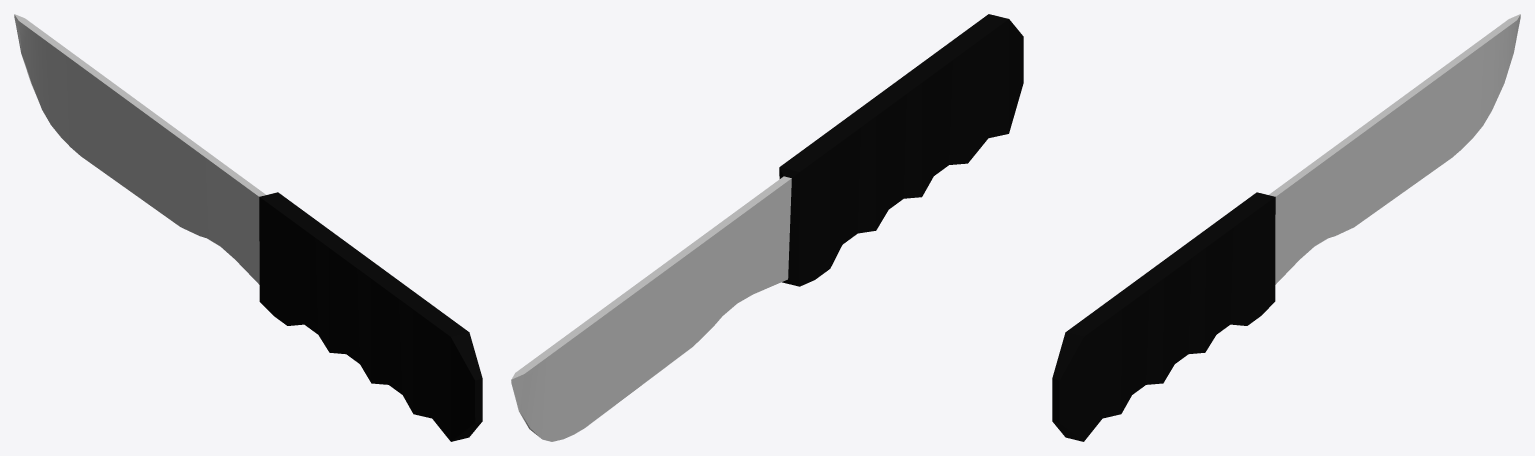
The model's file is Knife.FBX.
3 views of the same model, side by side, from view 1: azimuth 30°, elevation 25°; view 2: azimuth 150°, elevation 25°; view 3: azimuth 330°, elevation 25° (orthographic). The views are drawn at different scales.
Parts seen in each view (by area): view 1: Rukoyat, Box001; view 2: Rukoyat, Box001; view 3: Rukoyat, Box001.
Part boxes in pixels (x1,y1,x2,y2): Rukoyat: [259, 192, 482, 441]; Box001: [14, 14, 265, 284]; Rukoyat: [779, 14, 1023, 286]; Box001: [511, 176, 791, 441]; Rukoyat: [1052, 192, 1275, 441]; Box001: [1269, 14, 1520, 284].
Bounding box in the file's own units: 10.52 × 58.57 × 453.
